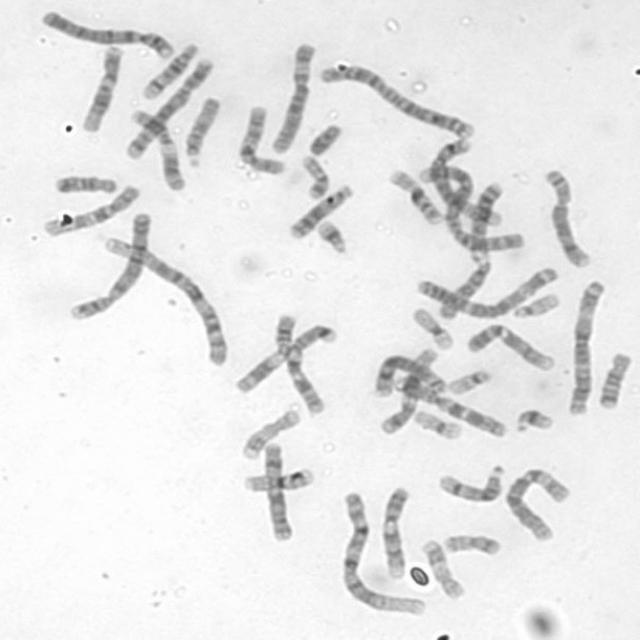A1: (100, 235, 232, 368), (340, 490, 430, 618)
A2: (320, 61, 478, 140), (416, 162, 527, 254)
A3: (415, 264, 560, 320), (564, 280, 606, 417)
B4: (68, 211, 154, 323), (40, 8, 178, 61)
B5: (122, 56, 217, 161), (426, 138, 505, 228)
C10: (39, 184, 142, 240), (238, 105, 287, 176)
C11: (232, 313, 298, 396), (126, 108, 188, 193)
C12: (377, 347, 439, 436), (78, 44, 124, 132)
C6: (268, 41, 320, 155), (504, 466, 573, 542)
C7: (392, 374, 510, 439), (284, 323, 338, 417)
C8: (541, 167, 594, 269), (371, 354, 447, 399)
C9: (465, 322, 557, 372), (379, 485, 410, 580)
D13: (288, 183, 355, 240), (467, 180, 505, 264)
D14: (139, 41, 200, 101), (435, 461, 507, 505)
D15: (434, 258, 498, 321), (182, 95, 222, 169)
E16: (387, 168, 446, 226), (242, 466, 316, 494)
E17: (238, 409, 300, 461), (419, 538, 467, 601)
E18: (597, 352, 632, 411), (54, 173, 119, 194)
F19: (411, 306, 456, 351), (414, 409, 465, 443)
F20: (444, 533, 503, 557), (301, 154, 331, 199)
G21: (315, 220, 351, 255), (514, 408, 558, 434)
G22: (510, 292, 563, 321), (445, 368, 492, 398)
X: (263, 439, 294, 542)
Y: (309, 122, 345, 157)
